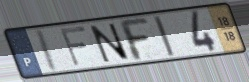4: (190, 9, 218, 54)
F: (116, 17, 153, 63), (58, 24, 89, 69)
I: (35, 27, 61, 74), (151, 14, 177, 59)
N: (88, 22, 133, 65)
